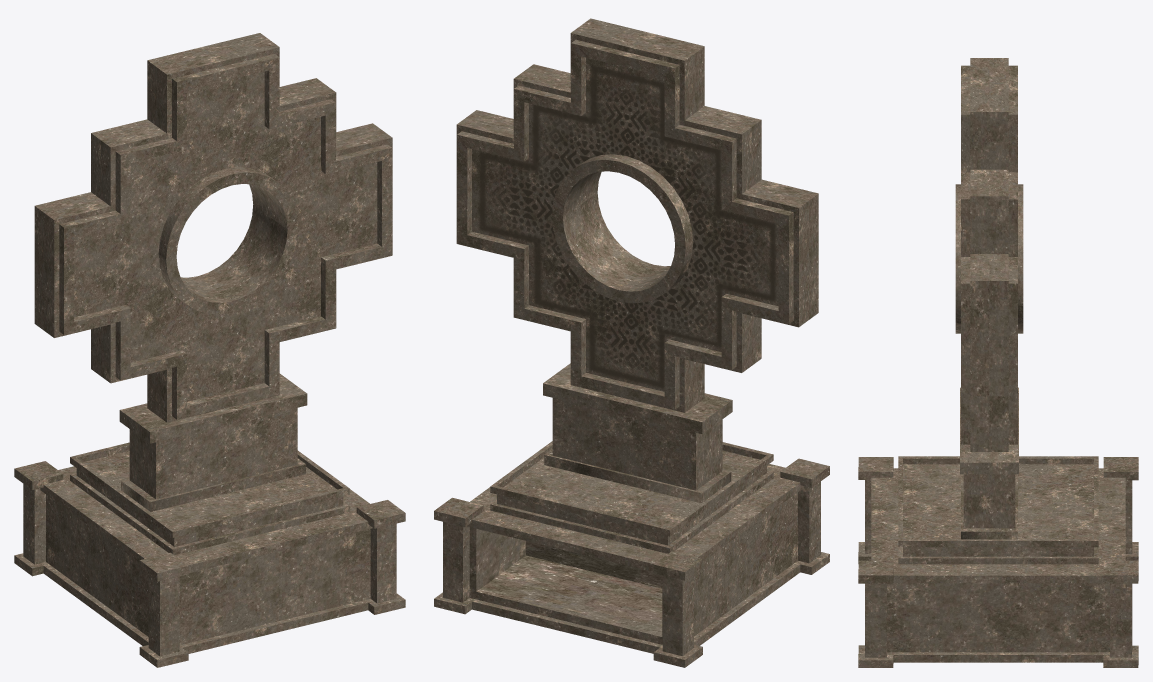
File: mdl_franch_Meta_ChakanaBase.gltf
3 views of the same model, side by side, from view 1: azimuth 30°, elevation 25°; view 2: azimuth 150°, elevation 25°; view 3: azimuth 270°, elevation 25° (orthographic). The views are drawn at different scales.
Parts seen in each view (by area): view 1: CHAKANA, BasePlinth; view 2: CHAKANA, BasePlinth, Plane; view 3: BasePlinth, CHAKANA.
Boxes of the visible parts, x1=… form: CHAKANA: x1=34, y1=33, x2=392, y2=511; BasePlinth: x1=14, y1=442, x2=405, y2=667; CHAKANA: x1=456, y1=18, x2=818, y2=503; BasePlinth: x1=434, y1=441, x2=829, y2=667; Plane: x1=479, y1=64, x2=775, y2=388; BasePlinth: x1=858, y1=456, x2=1138, y2=667; CHAKANA: x1=955, y1=58, x2=1023, y2=539.
Bounding box in the file's own units: 3 × 4.54 × 2.2.
Materials: 2 (2 with a texture image).
